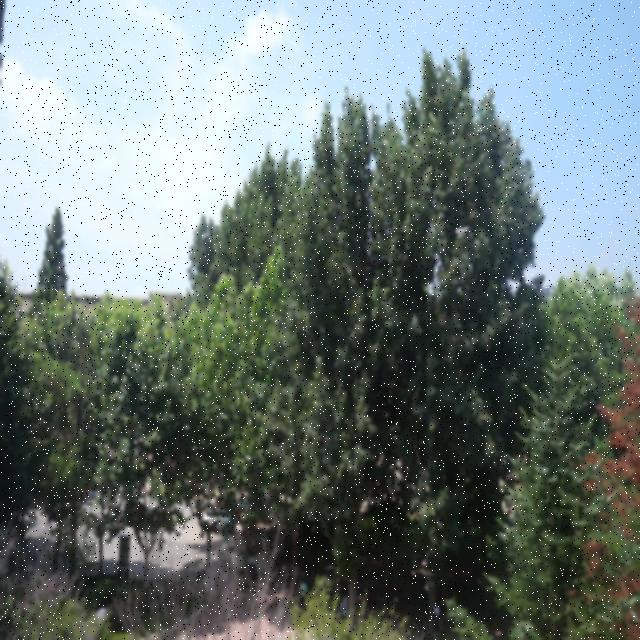UAV: (455, 226, 469, 237)
